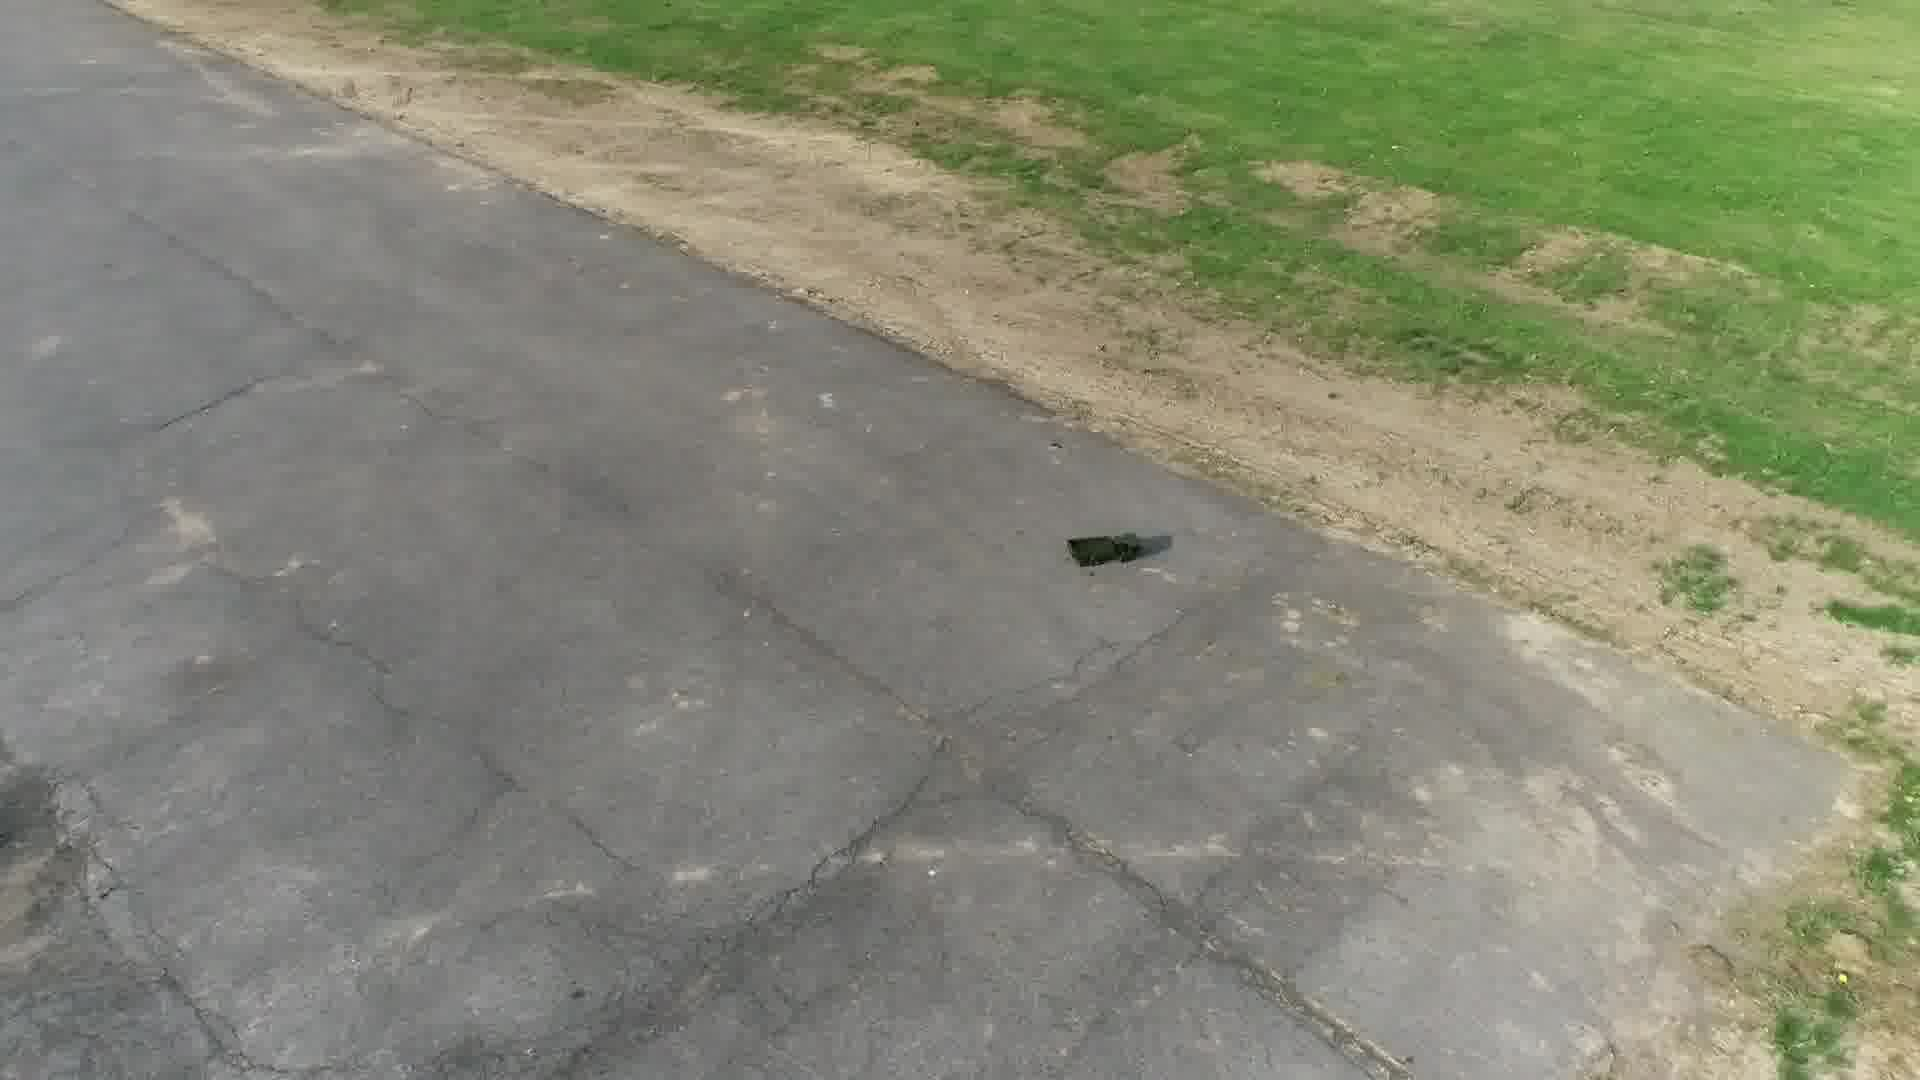transporter9: (1064, 529, 1145, 570)
